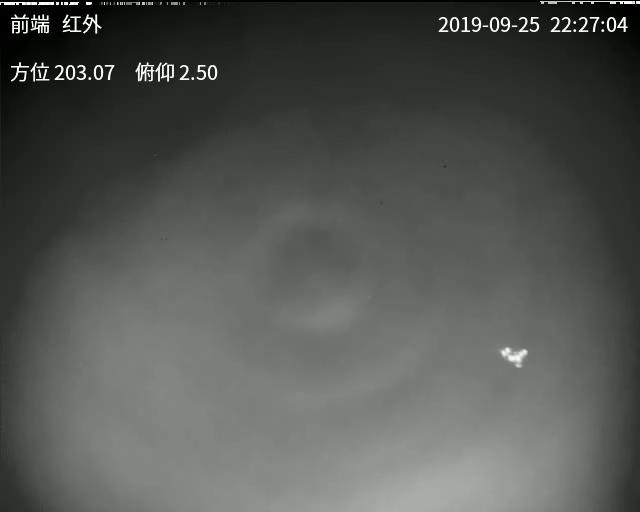uav: (495, 341, 529, 370)
